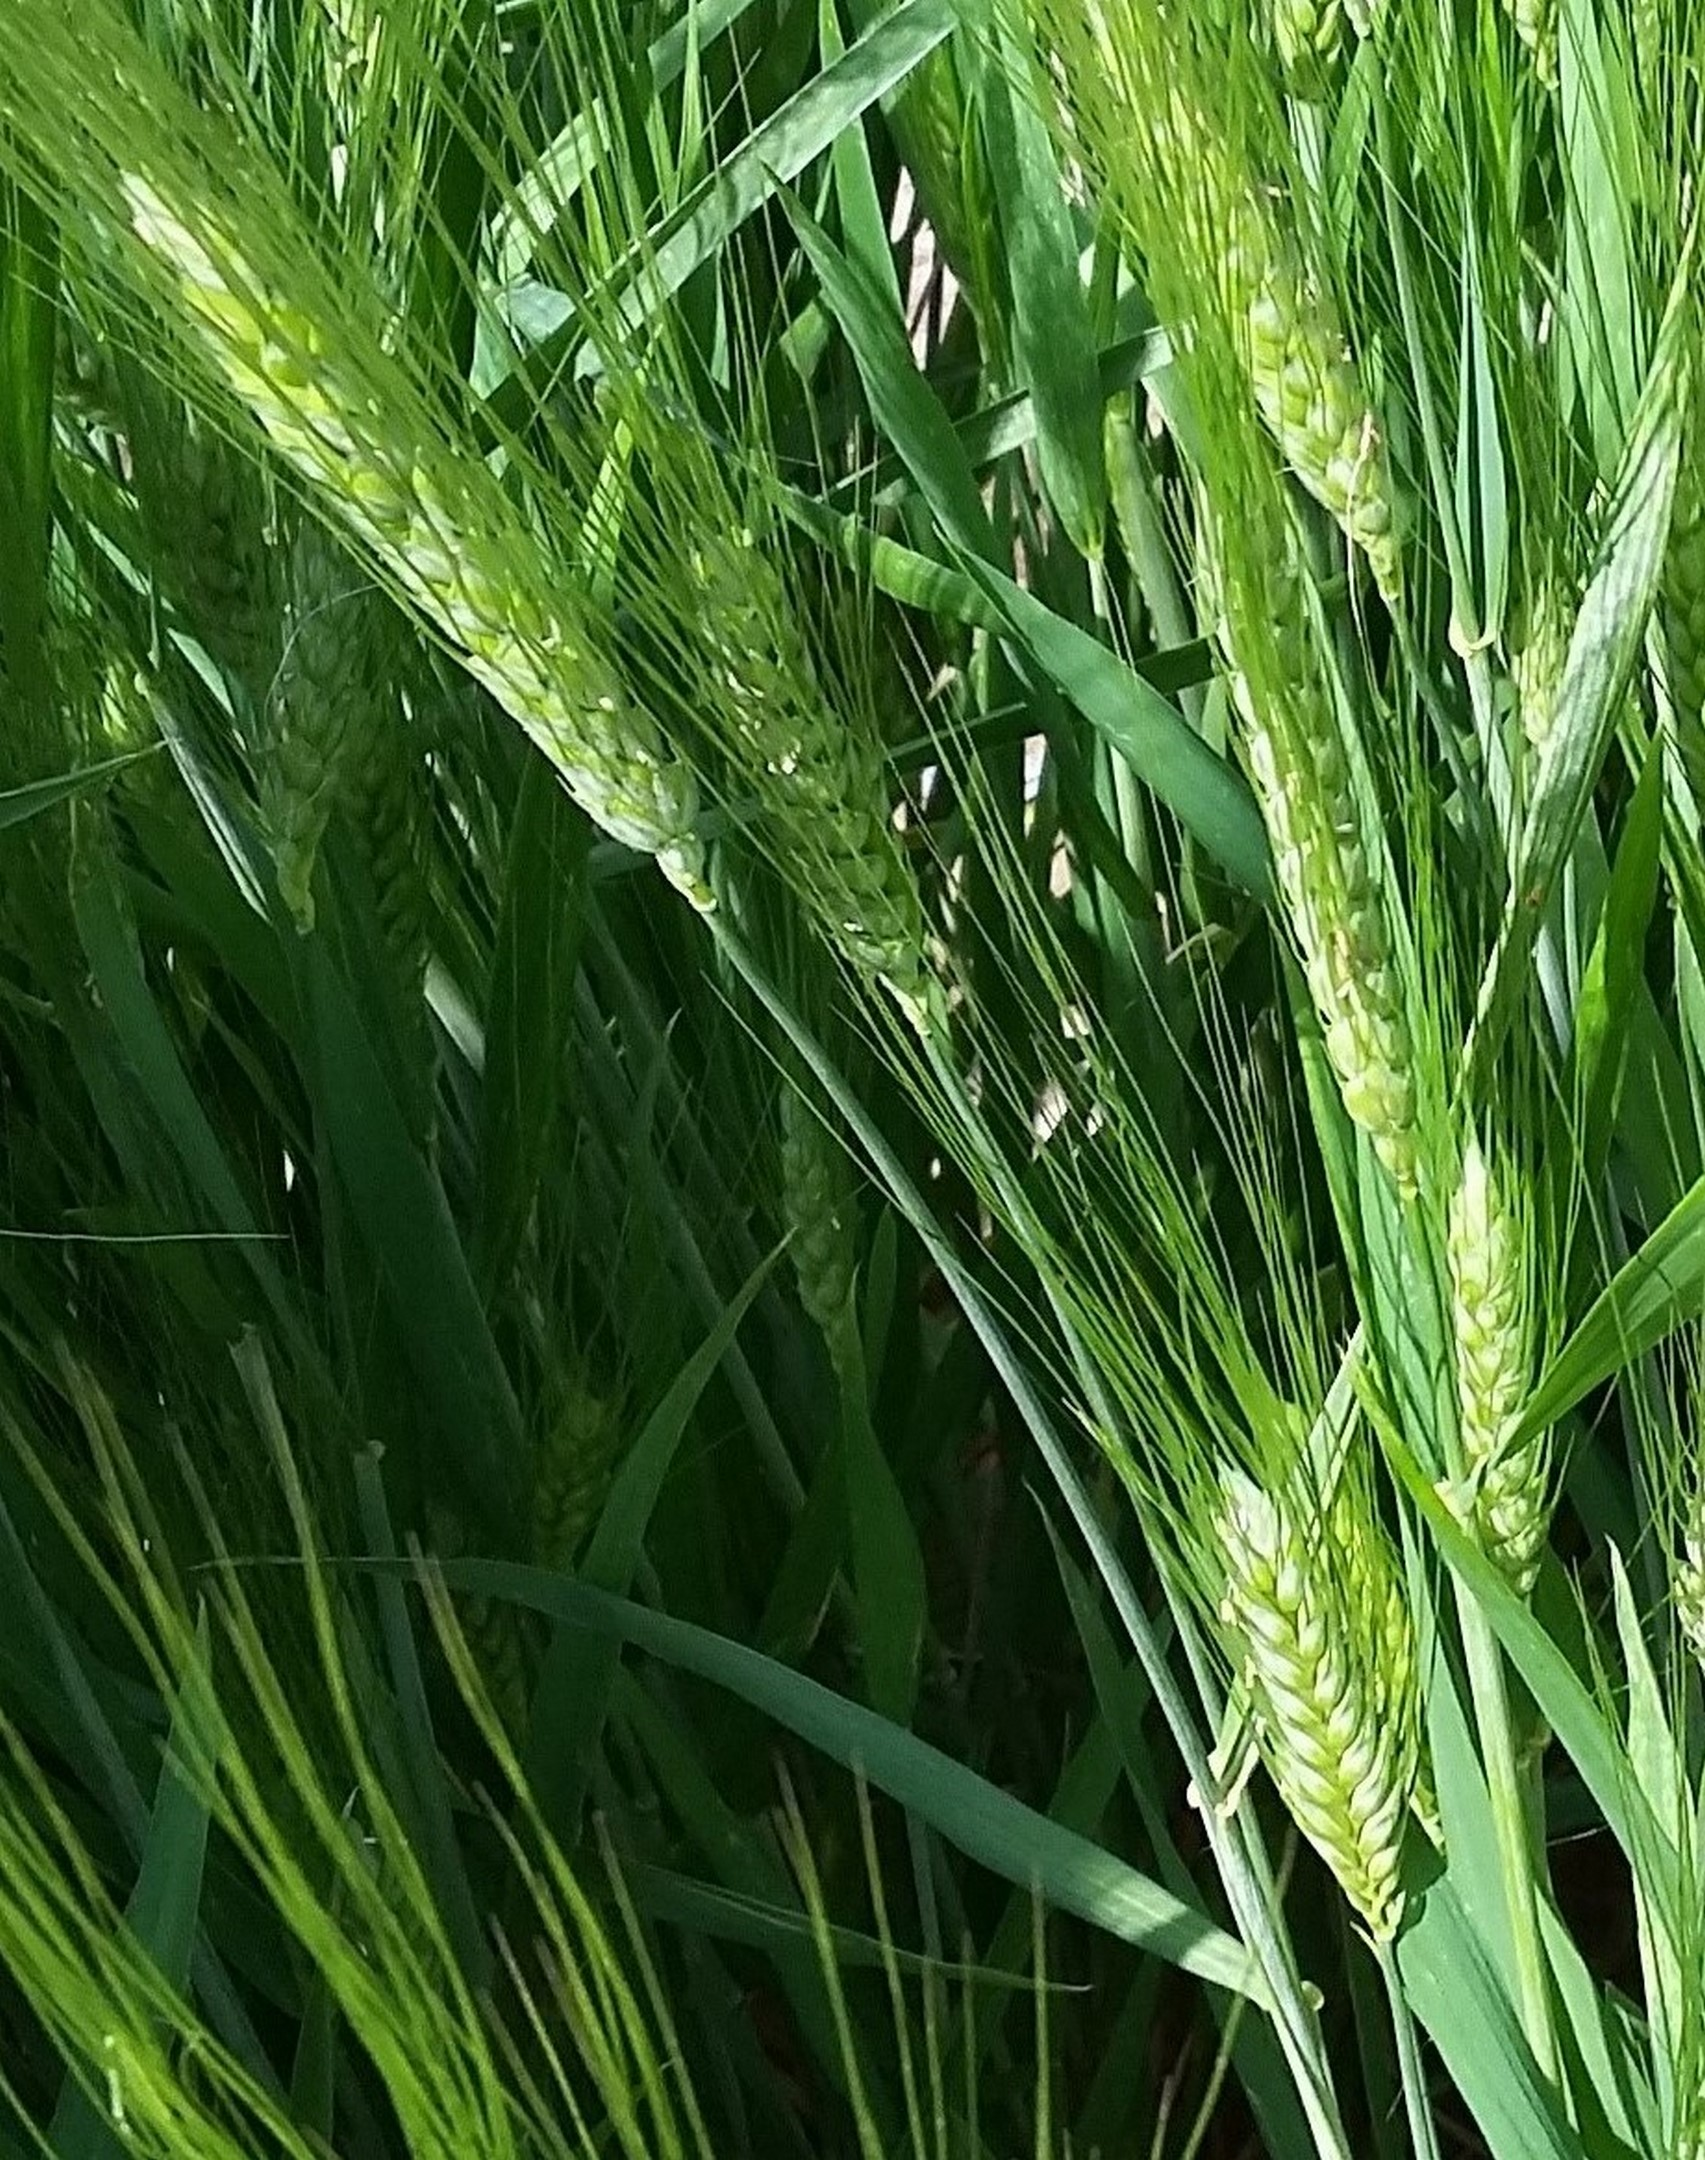Healthy Wheat: (121, 167, 688, 882), (1158, 1415, 1437, 1927)
